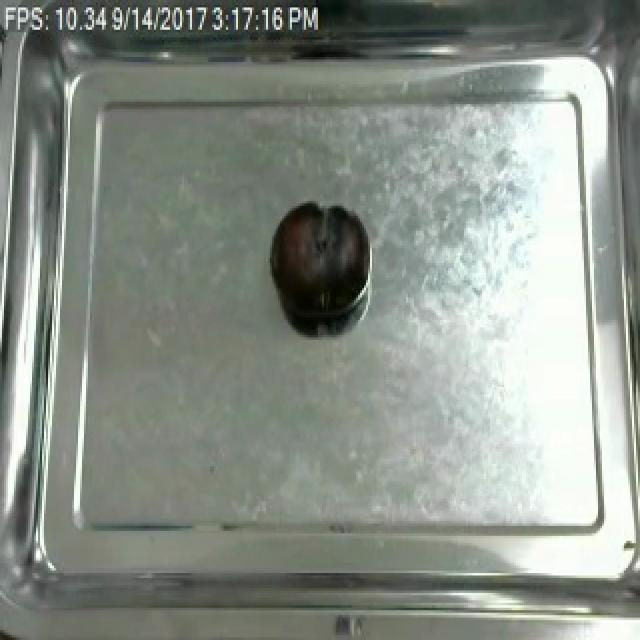Fruit: (266, 198, 368, 325)
